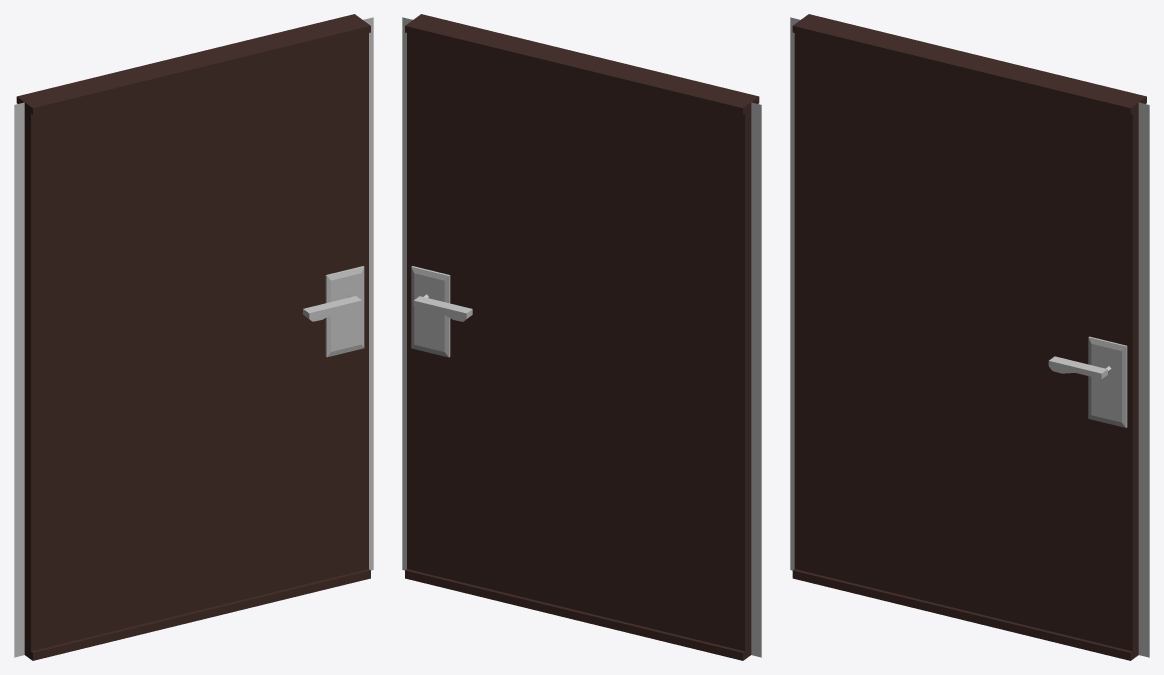
Rendered from DOOR_NW_RICH_01.OBJ.
3 views of the same model, side by side, from view 1: azimuth 30°, elevation 25°; view 2: azimuth 150°, elevation 25°; view 3: azimuth 330°, elevation 25° (orthographic).
Parts seen in each view (by area): view 1: DOOR_NW_RICH_01; view 2: DOOR_NW_RICH_01; view 3: DOOR_NW_RICH_01.
Boxes of the visible parts, <box> form: DOOR_NW_RICH_01: <box>14,14,373,660</box>; DOOR_NW_RICH_01: <box>402,14,761,660</box>; DOOR_NW_RICH_01: <box>790,14,1149,660</box>.
Size of the model in its own units: 1.7 by 2.5 by 0.3002.
